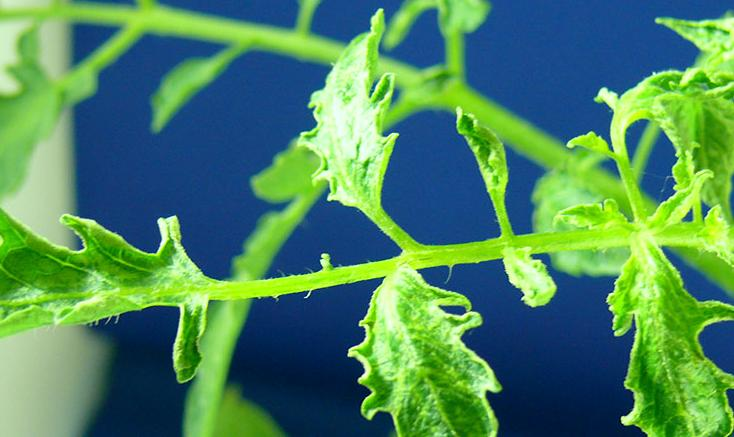Tomato leaf mosaic virus: (0, 217, 238, 374), (331, 264, 539, 437), (572, 240, 734, 437), (289, 0, 410, 219)
